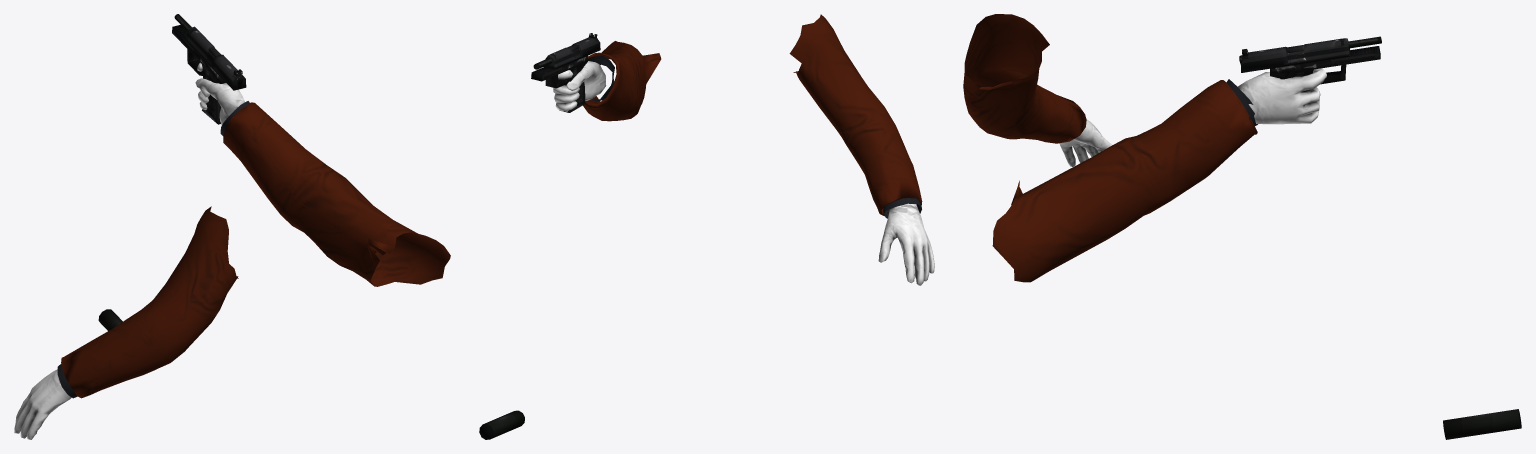
Rendered from frame_0003.obj.
3 renders of one model, left to right at view 1: azimuth 30°, elevation 25°; view 2: azimuth 150°, elevation 25°; view 3: azimuth 270°, elevation 25°, orthographic. The views are drawn at different scales.
Parts seen in each view (by area): view 1: PlayerModelMerged.001_PlayerModelMerged, glock_reference.001; view 2: PlayerModelMerged.001_PlayerModelMerged, glock_reference.001; view 3: PlayerModelMerged.001_PlayerModelMerged, glock_reference.001.
Boxes of the visible parts, box(x1,y1,x2,y2) form: PlayerModelMerged.001_PlayerModelMerged: box(14, 62, 450, 439); glock_reference.001: box(98, 14, 246, 330); PlayerModelMerged.001_PlayerModelMerged: box(553, 14, 934, 285); glock_reference.001: box(479, 33, 600, 439); PlayerModelMerged.001_PlayerModelMerged: box(963, 14, 1326, 282); glock_reference.001: box(1239, 36, 1521, 439).
Bounding box in the file's own units: 1.15 × 1.02 × 1.27.
